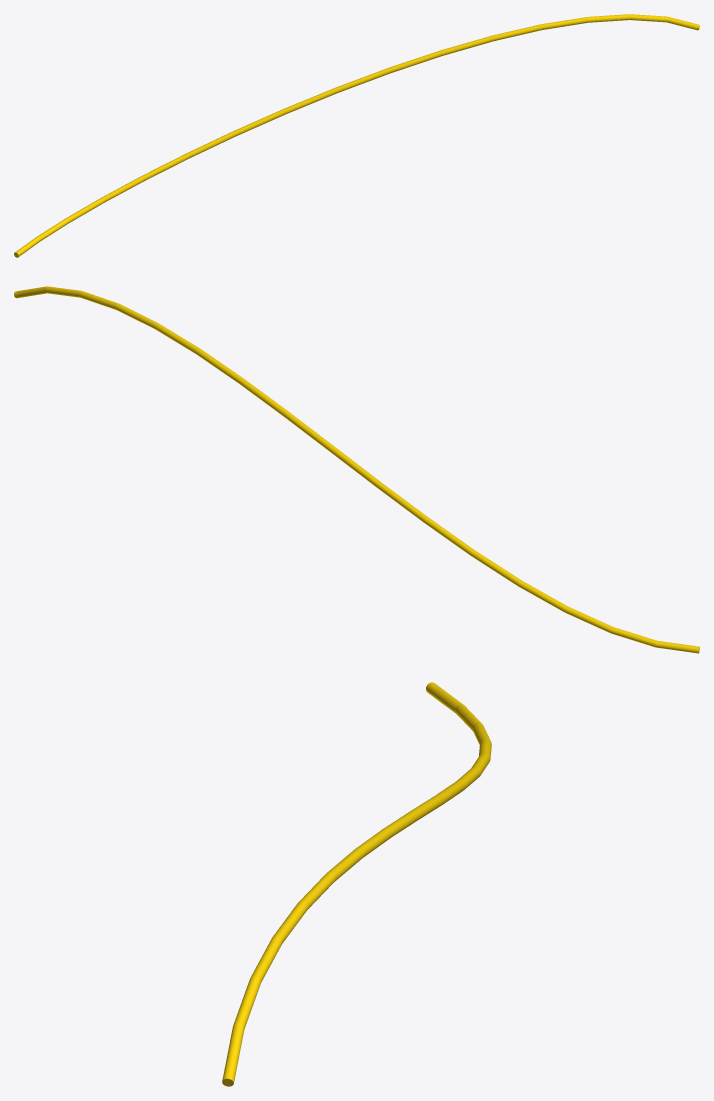
The model's file is Event_420604493_track_19.fbx.
3 renders of one model, top to bottom at view 1: azimuth 30°, elevation 25°; view 2: azimuth 150°, elevation 25°; view 3: azimuth 270°, elevation 25°, orthographic. The views are drawn at different scales.
Visible parts, largest first — view 1: Model; view 2: Model; view 3: Model.
Boxes of the visible parts, left/top/right/bottom form: Model: left=14, top=14, right=699, bottom=257; Model: left=14, top=286, right=699, bottom=653; Model: left=222, top=682, right=491, bottom=1086.
Bounding box in the file's own units: 4.93 × 1.03 × 0.9084.
